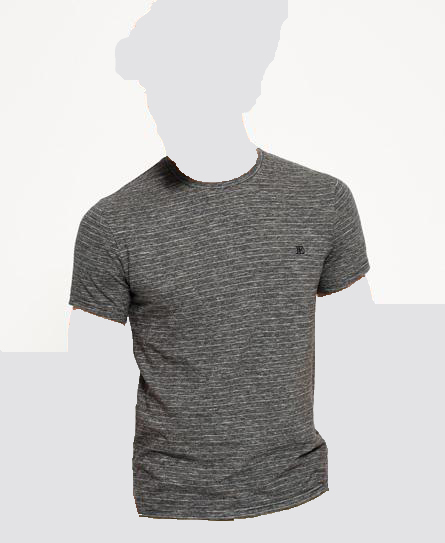teeshirt: (67, 146, 372, 526)
